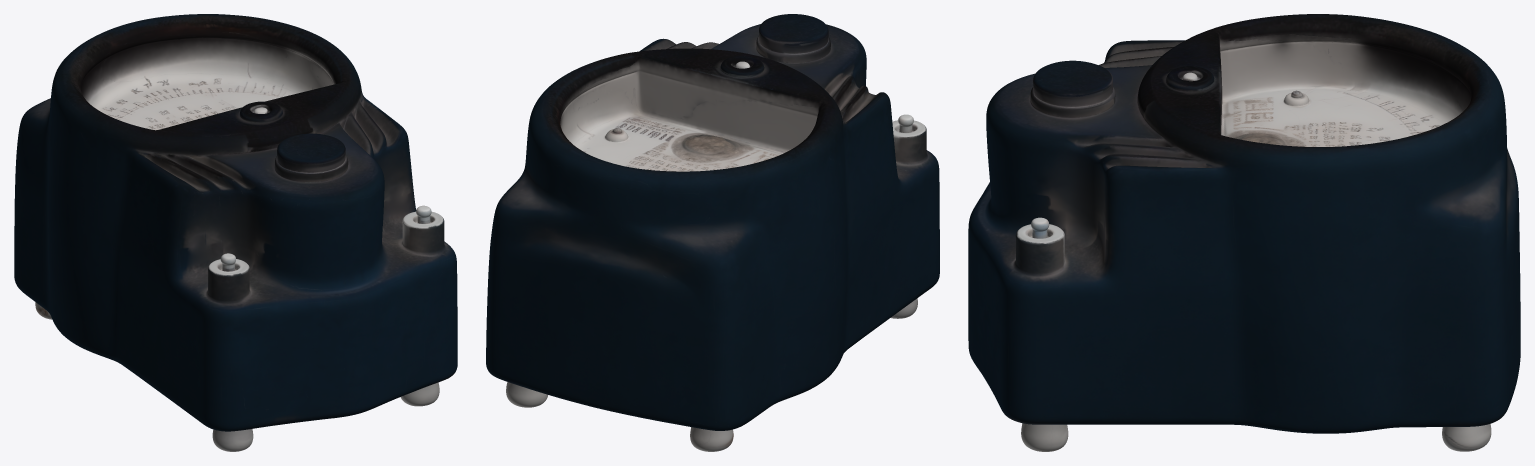
File: 晋察冀军区工业部使用过的电阻表.glb
The picture shows the model from 3 angles, left to right: view 1: azimuth 30°, elevation 25°; view 2: azimuth 150°, elevation 25°; view 3: azimuth 270°, elevation 25°; orthographic projection. The views are drawn at different scales.
Visible parts, largest first — view 1: texture_pbr_v128; view 2: texture_pbr_v128; view 3: texture_pbr_v128.
Part boxes in pixels (<box>): texture_pbr_v128: <box>14,14,457,451</box>; texture_pbr_v128: <box>486,14,939,451</box>; texture_pbr_v128: <box>968,14,1520,451</box>.
Size of the model in its own units: 0.7125 by 0.6404 by 1.01.
1 material, 1 textured.
